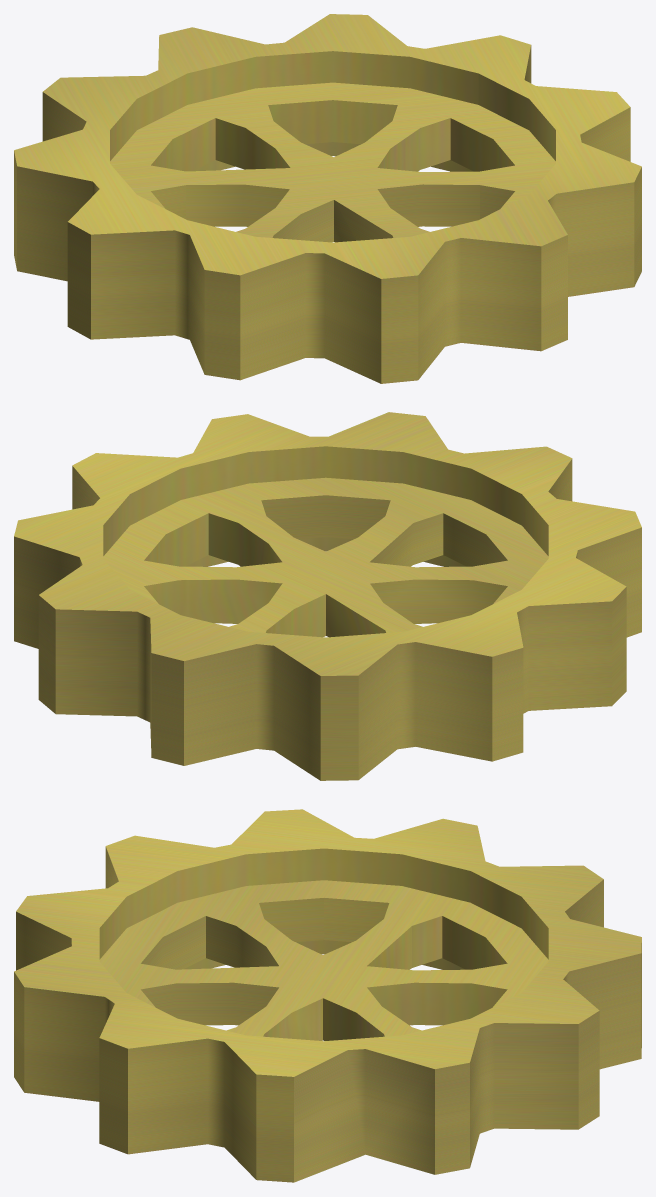
File: CogInset6Spoke011.fbx
3 views of the same model, one above another, from view 1: azimuth 30°, elevation 25°; view 2: azimuth 150°, elevation 25°; view 3: azimuth 270°, elevation 25° (orthographic).
Visible parts, largest first — view 1: CogInset6Spoke011; view 2: CogInset6Spoke011; view 3: CogInset6Spoke011.
Part boxes in pixels (left/top/right/bottom): CogInset6Spoke011: left=14, top=14, right=641, bottom=383; CogInset6Spoke011: left=14, top=412, right=641, bottom=780; CogInset6Spoke011: left=14, top=809, right=641, bottom=1182.
Size of the model in its own units: 107 by 19.69 by 106.
